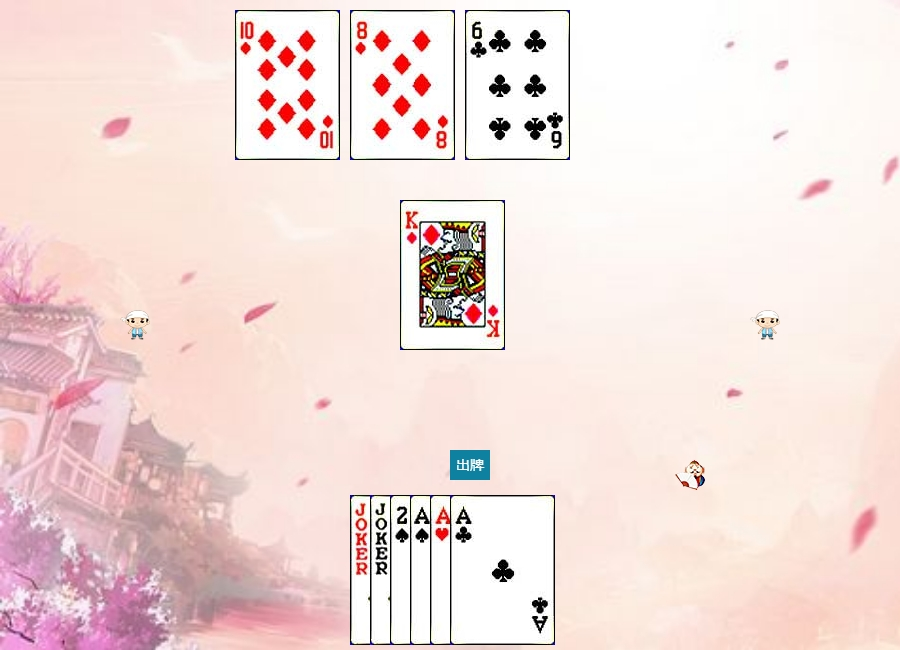10~1: (235, 10, 340, 160)
13~1: (400, 200, 505, 350)
14~2: (450, 495, 555, 645)
14~3: (430, 495, 535, 645)
14~4: (410, 495, 515, 645)
15~4: (390, 495, 495, 645)
17~3: (370, 495, 475, 645)
18~4: (350, 495, 455, 645)
6~2: (465, 10, 570, 160)
8~1: (350, 10, 455, 160)
